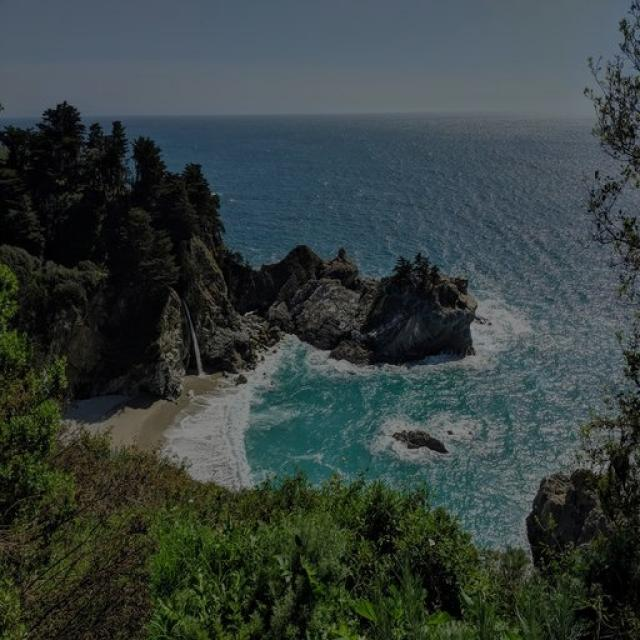watermark: (347, 247, 585, 397)
